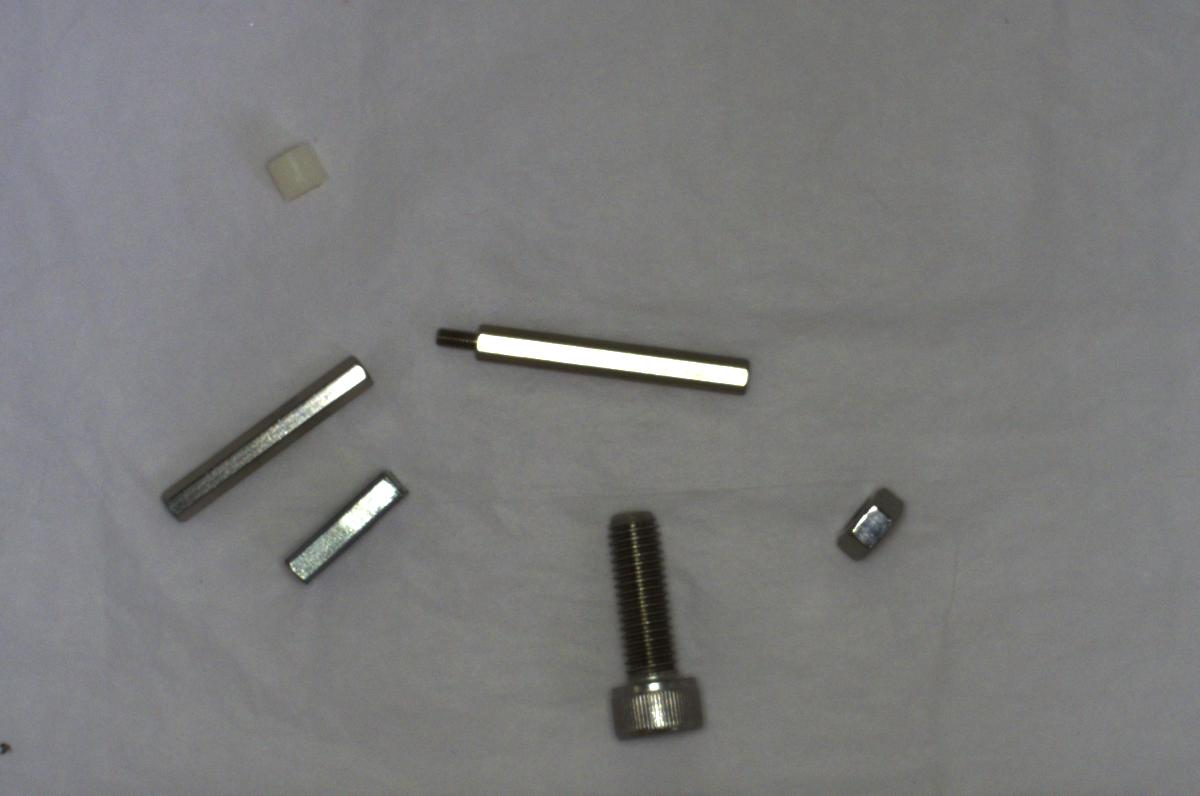Double hexagonal column: (161, 350, 377, 521)
Hexagon nut: (831, 479, 906, 563)
Hexagon screw: (593, 507, 711, 750)
Hexagonal steel column: (422, 315, 761, 398)
Plastic cushion pillar: (260, 135, 335, 207)
Rectangular nut: (282, 466, 410, 586)
